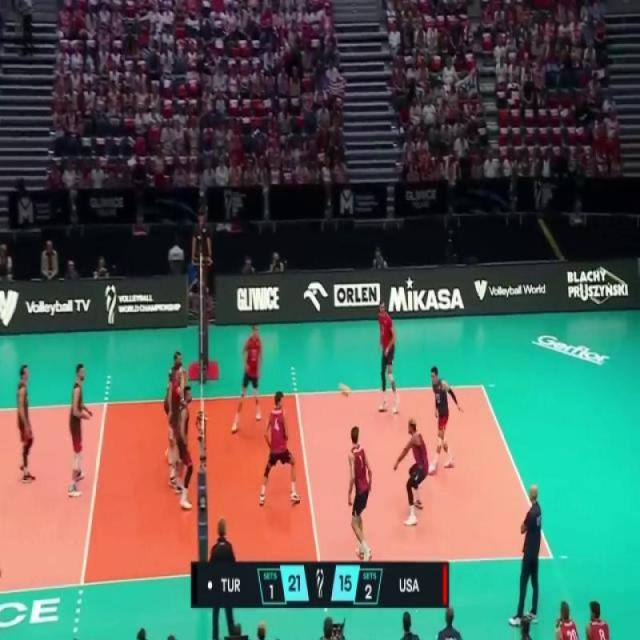volleyball: (338, 380, 352, 400)
